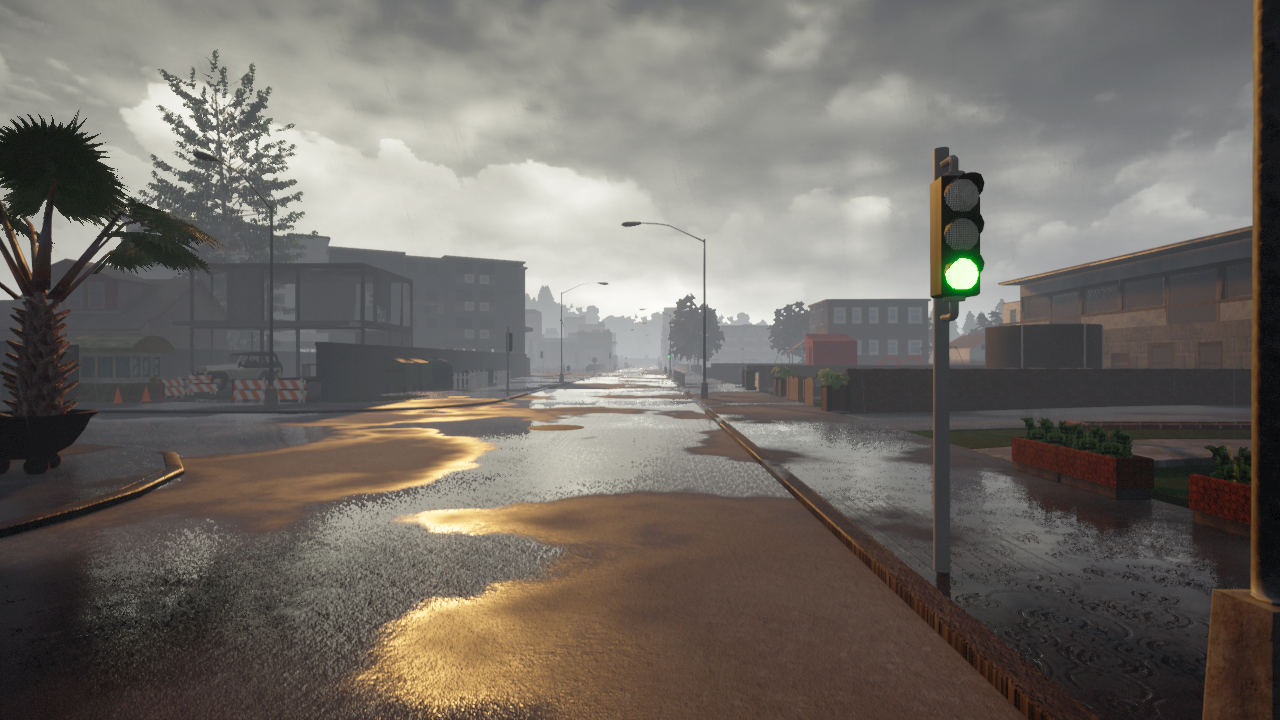green: (927, 168, 983, 302)
